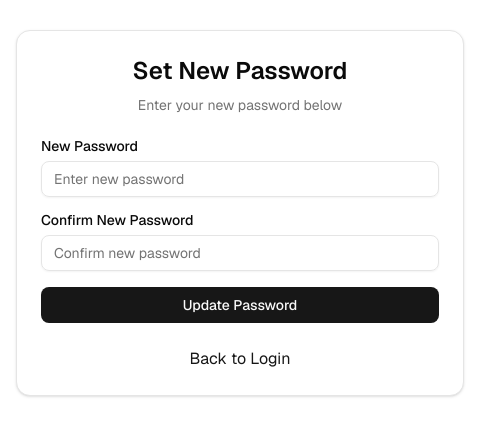
Test: ResetPasswordPage › shows error when passwords don't match
Type "Password123" into the password field labelled "New Password".
click(240, 179); type("Password123")  # box [41,161,439,197]
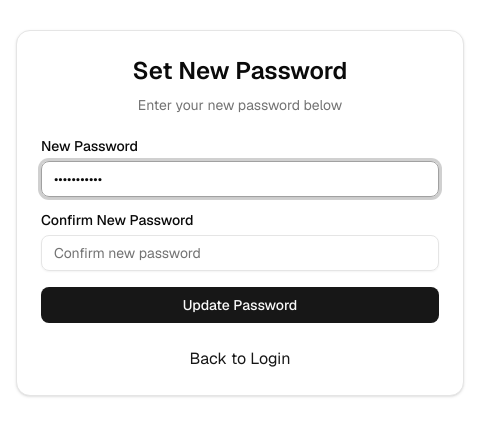
Type "DifferentPassword123" into the password field labelled "Confirm New Password".
click(240, 253); type("DifferentPassword123")  # box [41,235,439,271]
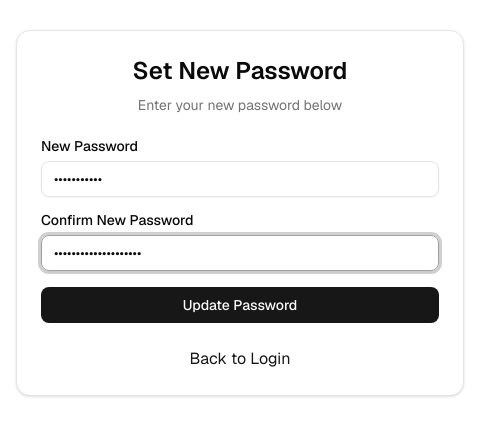
Click the button "Update Password".
click(240, 305)  # box [41,287,439,323]
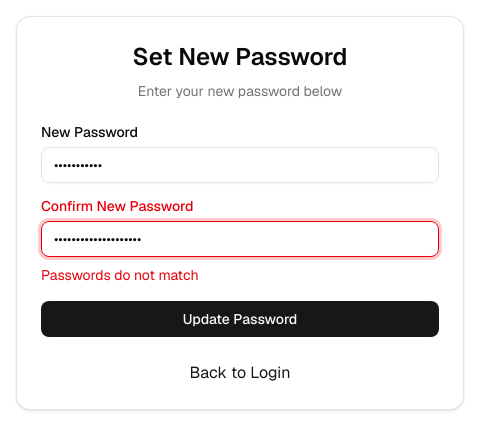
Now the text "Passwords do not match" is shown, box [41,266,198,284]
